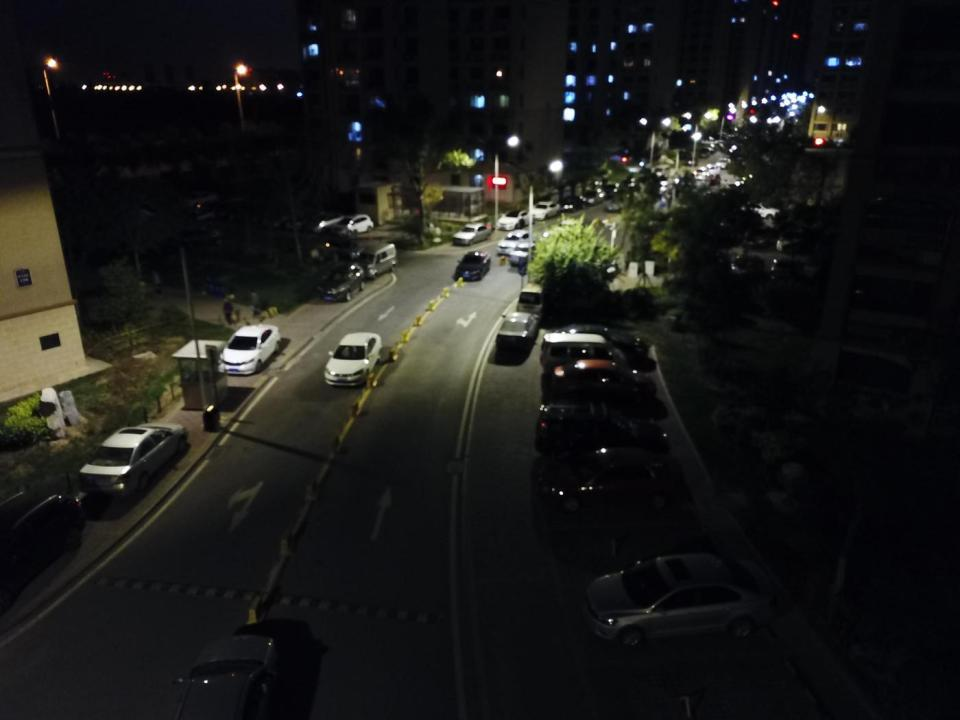car: (576, 552, 781, 651), (533, 441, 692, 522), (0, 490, 88, 620), (168, 634, 280, 719), (75, 420, 190, 496), (534, 398, 674, 456), (550, 356, 658, 407), (540, 315, 650, 365), (218, 322, 283, 376), (325, 332, 382, 388), (495, 310, 542, 358), (319, 260, 365, 301), (306, 234, 365, 258), (177, 185, 220, 214), (453, 250, 491, 282), (734, 197, 784, 221), (496, 228, 542, 254), (306, 207, 350, 233), (334, 211, 376, 238), (177, 224, 225, 247), (264, 203, 311, 226), (770, 255, 806, 284), (729, 251, 765, 280), (243, 202, 286, 226), (452, 219, 490, 246), (288, 205, 329, 230), (743, 223, 779, 249), (776, 223, 805, 253), (509, 242, 546, 265), (539, 225, 573, 249), (223, 200, 262, 220), (498, 208, 533, 230), (528, 200, 562, 220), (558, 219, 588, 240), (579, 187, 606, 206), (607, 194, 631, 214), (558, 194, 586, 210), (603, 183, 628, 198), (717, 156, 731, 169)
van: (534, 331, 628, 379), (516, 276, 551, 319), (358, 243, 398, 280), (654, 162, 670, 178)
